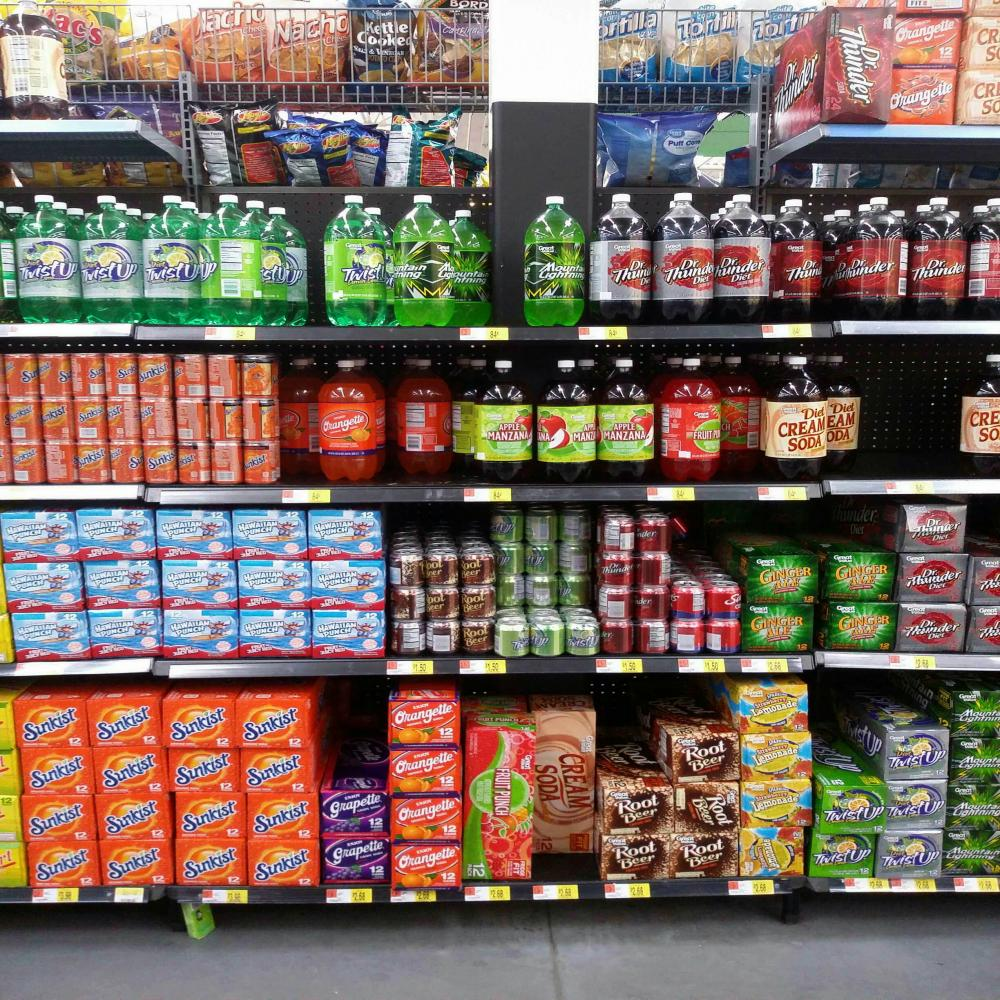shelf: (0, 874, 1000, 908), (5, 653, 1000, 674), (0, 324, 1000, 340), (0, 485, 1000, 499), (817, 123, 1000, 136), (0, 117, 150, 132)
